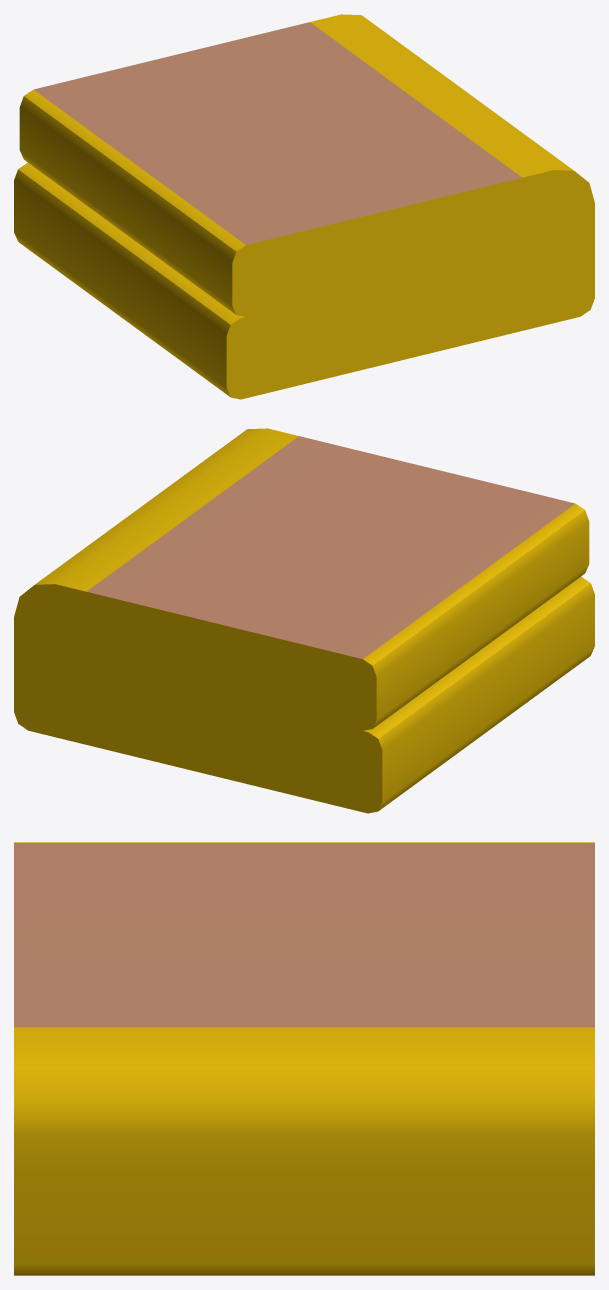
Rendered from Blanket.fbx.
3 views of the same model, one above another, from view 1: azimuth 30°, elevation 25°; view 2: azimuth 150°, elevation 25°; view 3: azimuth 270°, elevation 25° (orthographic). The views are drawn at different scales.
Parts seen in each view (by area): view 1: Blanket; view 2: Blanket; view 3: Blanket.
Part boxes in pixels (bbox=[...]): Blanket: bbox=[14, 14, 594, 399]; Blanket: bbox=[14, 428, 594, 813]; Blanket: bbox=[14, 842, 594, 1275].
Bounding box in the file's own units: 24.78 × 9.84 × 24.78.
